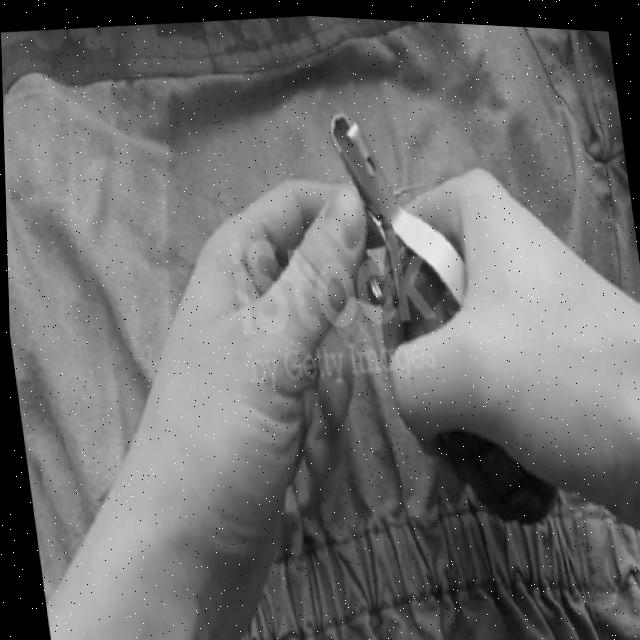grenade: (324, 84, 567, 545)
